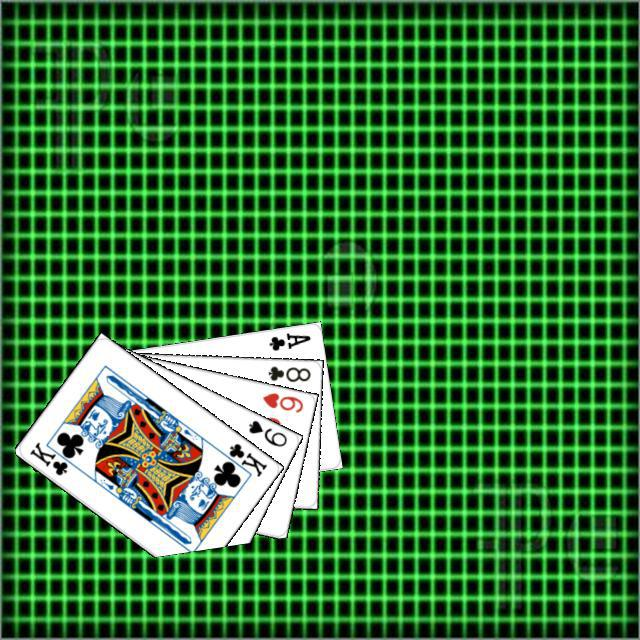6h: (258, 388, 305, 414)
8c: (263, 362, 312, 383)
9s: (244, 415, 289, 448)
Ac: (264, 328, 312, 353)
Kc: (215, 438, 269, 479), (24, 437, 78, 477)
